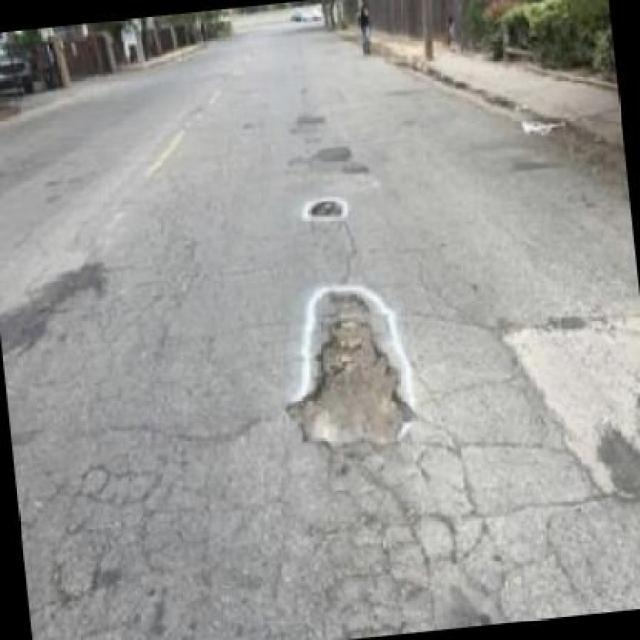pothole1: (278, 282, 418, 456), (307, 191, 347, 220)
